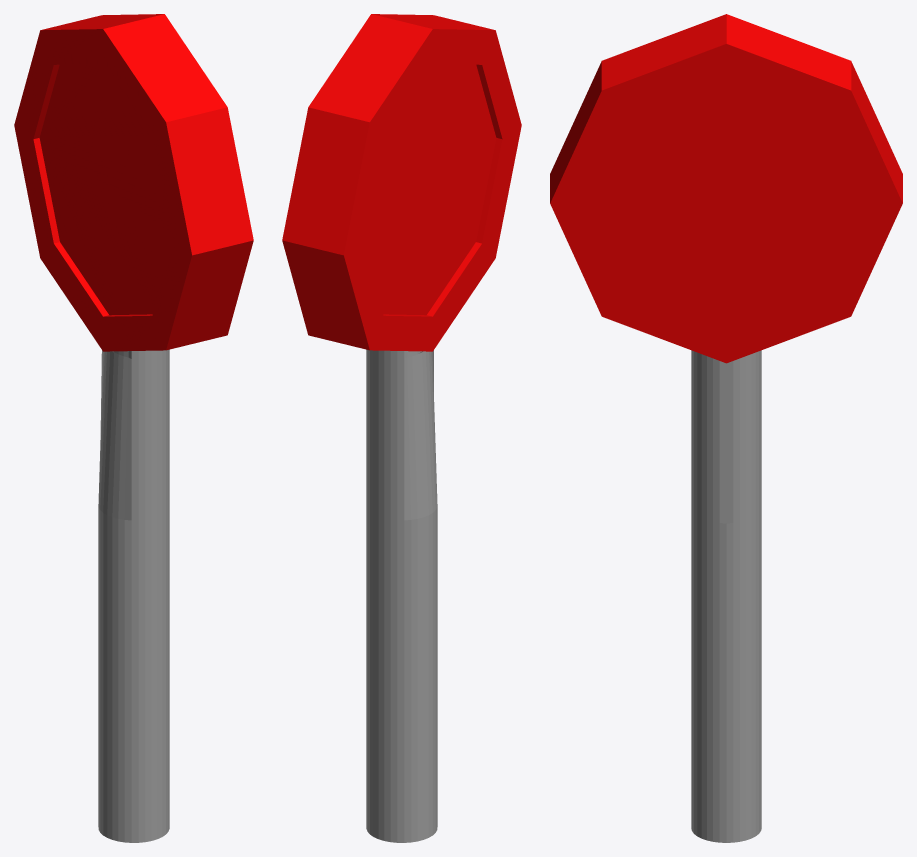
The model's file is Stop_Sign.fbx.
The picture shows the model from 3 angles, left to right: view 1: azimuth 30°, elevation 25°; view 2: azimuth 150°, elevation 25°; view 3: azimuth 270°, elevation 25°; orthographic projection.
Visible parts, largest first — view 1: Cylinder; view 2: Cylinder; view 3: Cylinder.
Boxes of the visible parts, x1,y1,x2,y2 form: Cylinder: [14, 14, 253, 842]; Cylinder: [282, 14, 521, 842]; Cylinder: [550, 14, 902, 842].
Bounding box in the file's own units: 10 × 125 × 50.
